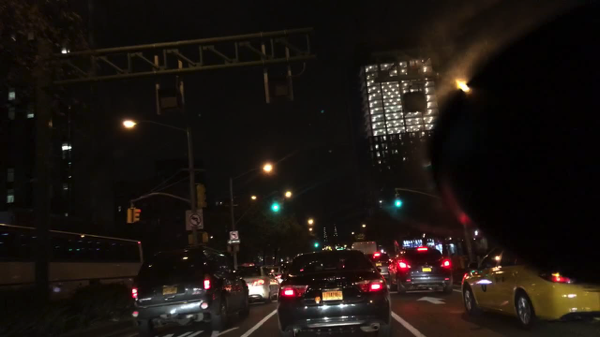car: (460, 243, 600, 330), (126, 246, 251, 332), (275, 249, 392, 337), (389, 246, 456, 298), (235, 262, 282, 303), (367, 254, 394, 281), (263, 265, 286, 287), (278, 261, 287, 271)
traffic light: (197, 184, 206, 207), (394, 191, 403, 207), (197, 231, 209, 242), (133, 207, 141, 222), (272, 195, 278, 210), (314, 238, 319, 250)
traffic sign: (184, 209, 206, 230), (189, 215, 198, 226), (229, 230, 239, 239), (227, 240, 242, 244)
truck: (349, 241, 377, 258)
